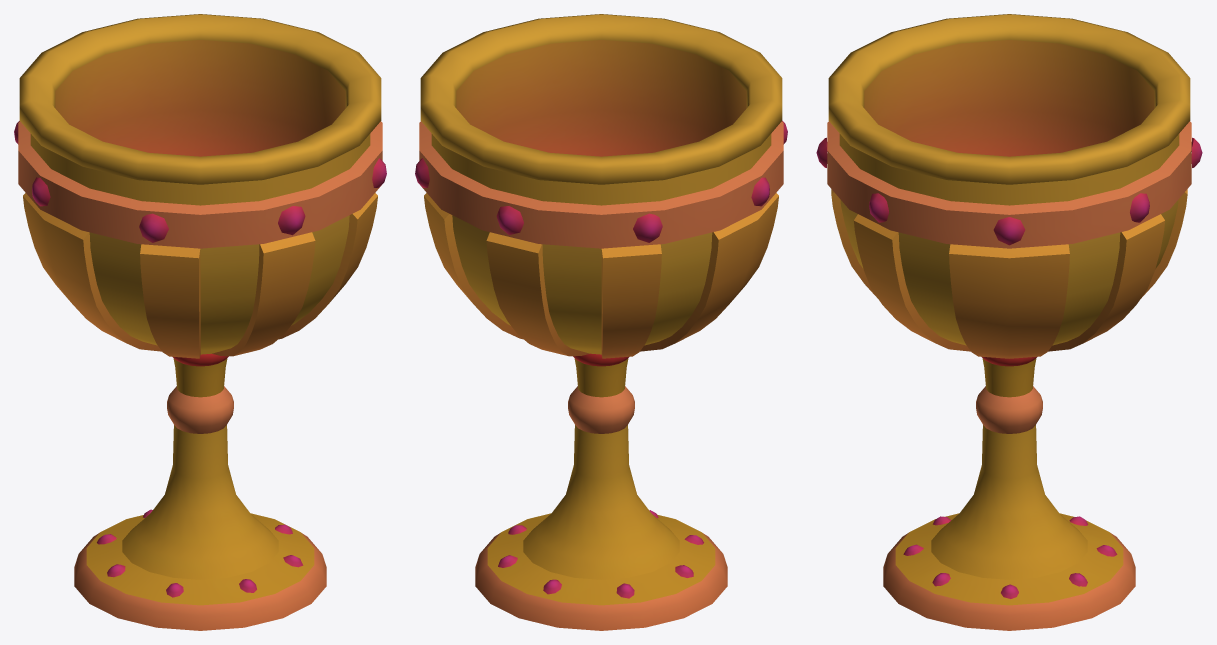
File: OBJ_HolyGrail.fbx
The picture shows the model from 3 angles, left to right: view 1: azimuth 30°, elevation 25°; view 2: azimuth 150°, elevation 25°; view 3: azimuth 270°, elevation 25°; orthographic projection.
Parts seen in each view (by area): view 1: OBJ_HolyGrail; view 2: OBJ_HolyGrail; view 3: OBJ_HolyGrail.
Part boxes in pixels (box(x1,y1,x2,y2)): OBJ_HolyGrail: box(14, 14, 386, 630); OBJ_HolyGrail: box(415, 14, 787, 630); OBJ_HolyGrail: box(816, 14, 1202, 630).
Size of the model in its own units: 32.66 by 45.66 by 32.66.
